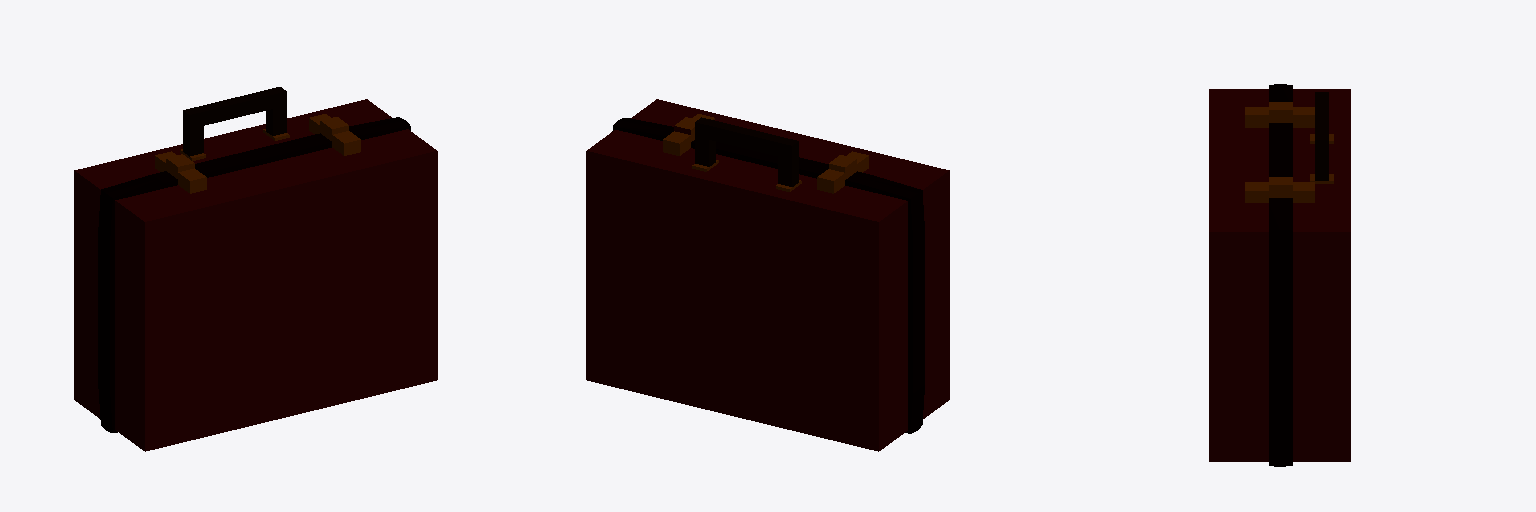
The model's file is valiserouge0.obj.
The picture shows the model from 3 angles: view 1: azimuth 30°, elevation 25°; view 2: azimuth 150°, elevation 25°; view 3: azimuth 270°, elevation 25°; orthographic projection.
Visible parts, largest first — view 1: pCube1; view 2: pCube1; view 3: pCube1.
Boxes of the visible parts, x1,y1,x2,y2 form: pCube1: [74, 87, 437, 451]; pCube1: [586, 99, 949, 451]; pCube1: [1209, 84, 1350, 466].
Bounding box in the file's own units: 5.98 × 5.28 × 2.41.